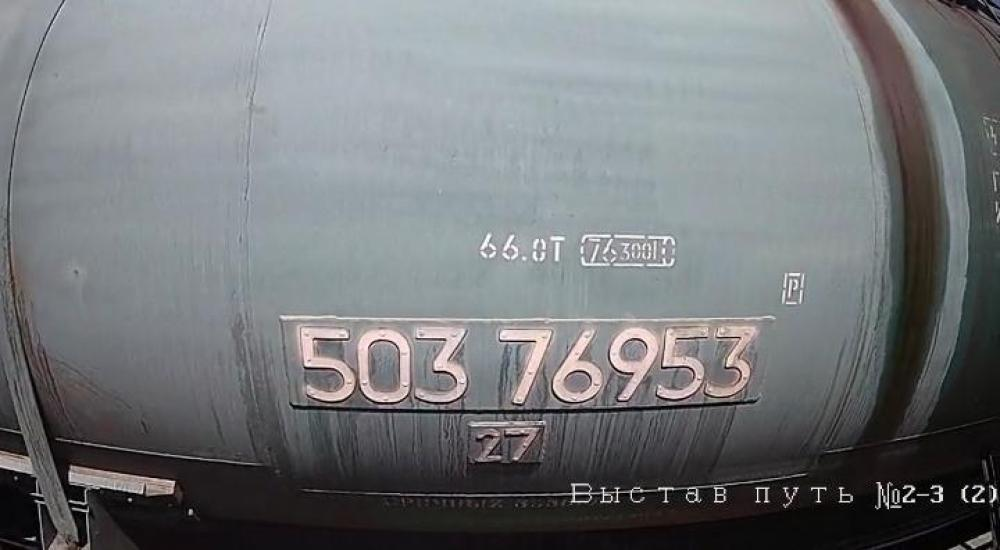Wagon-number: (282, 317, 762, 409)
